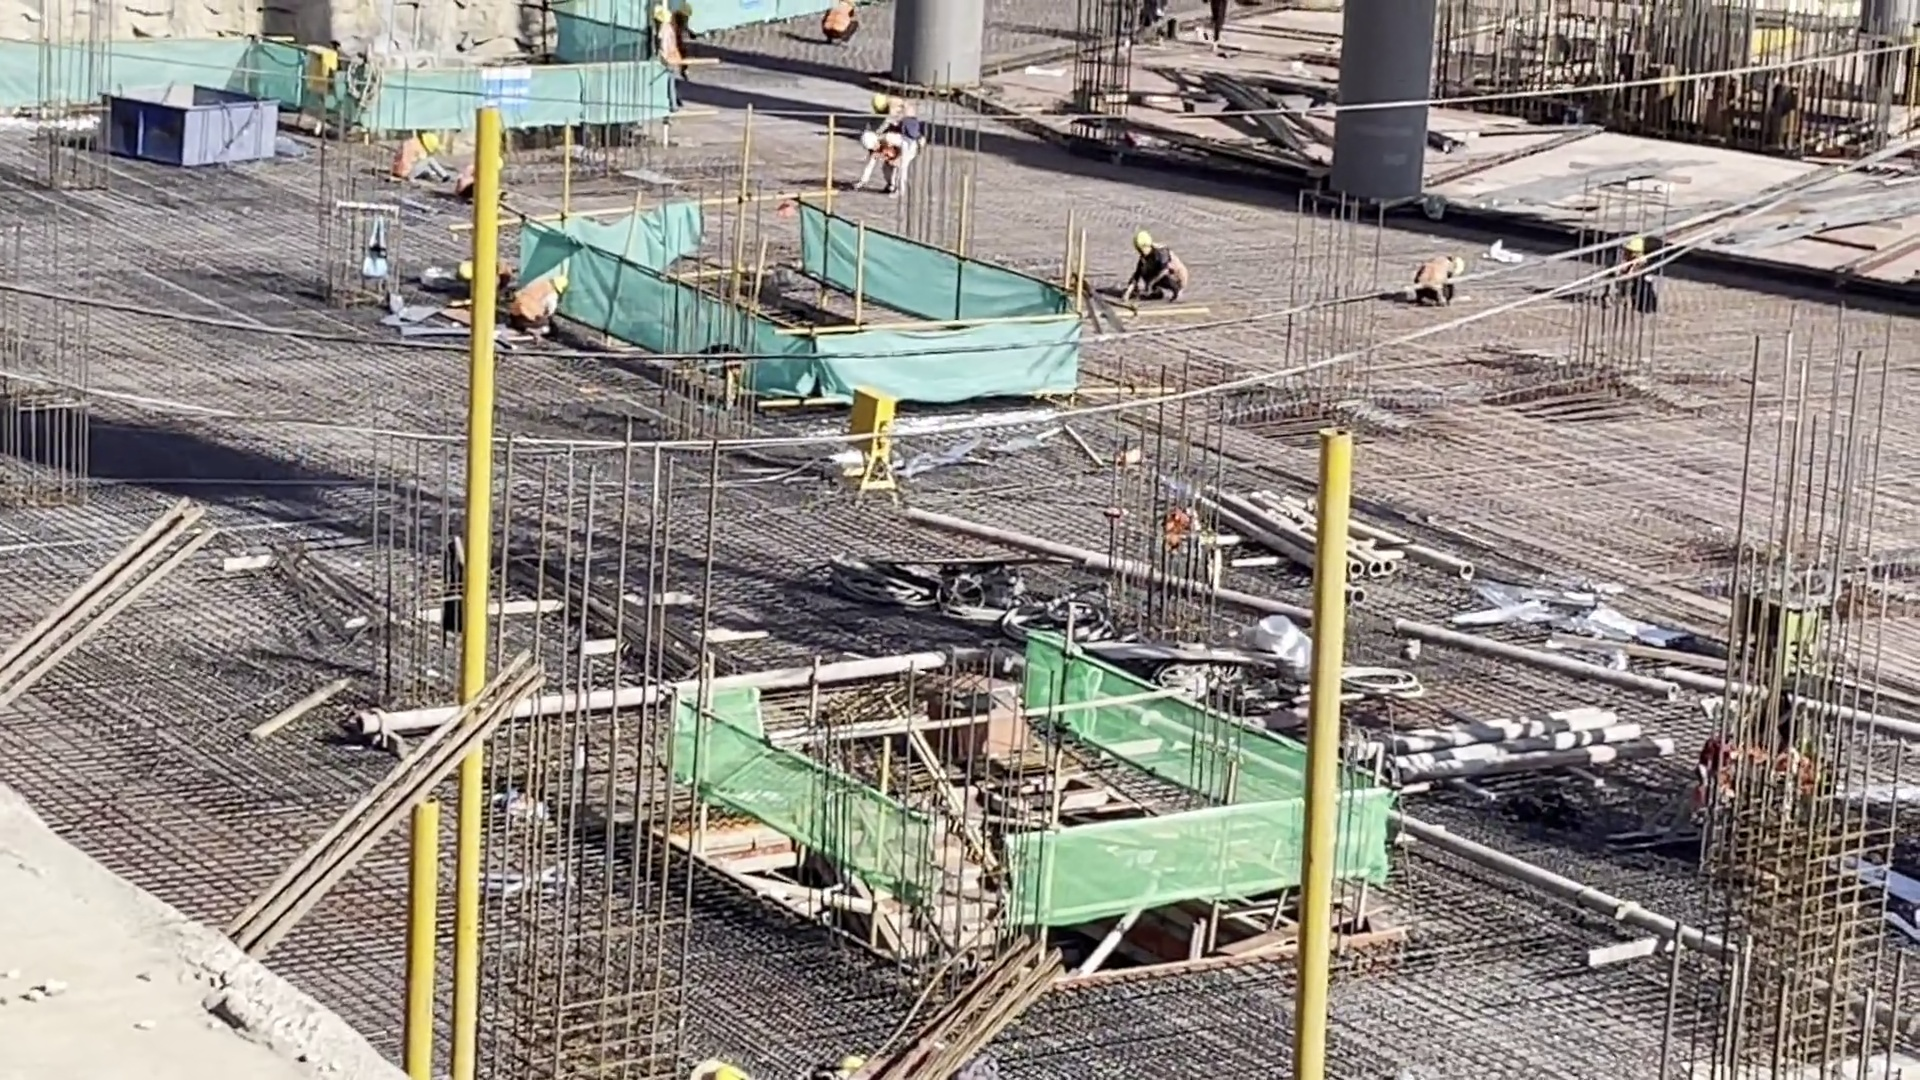ebox: (847, 391, 888, 470), (298, 45, 331, 89)
helmet: (551, 270, 569, 295), (420, 134, 439, 156), (860, 130, 878, 150), (1626, 239, 1646, 253), (1136, 231, 1151, 246), (871, 95, 888, 107)
hopper: (101, 84, 277, 164)
person: (1132, 229, 1189, 303), (859, 130, 909, 196), (392, 134, 447, 187), (1417, 251, 1461, 312), (870, 92, 921, 143), (821, 1, 863, 47)
slogan: (479, 66, 539, 118)
vest: (1417, 254, 1452, 295), (393, 138, 424, 179), (824, 7, 865, 38), (516, 284, 551, 319)
